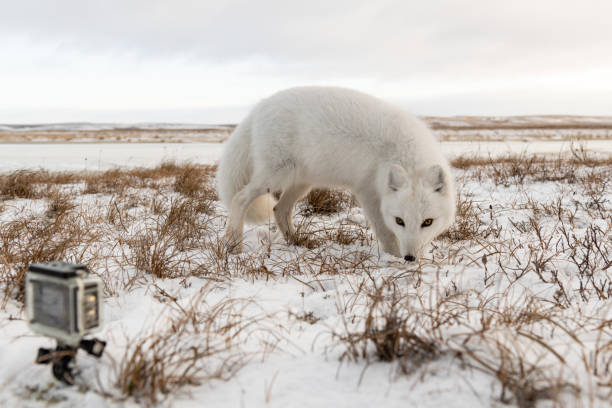arcticfox: (367, 154, 452, 268)
